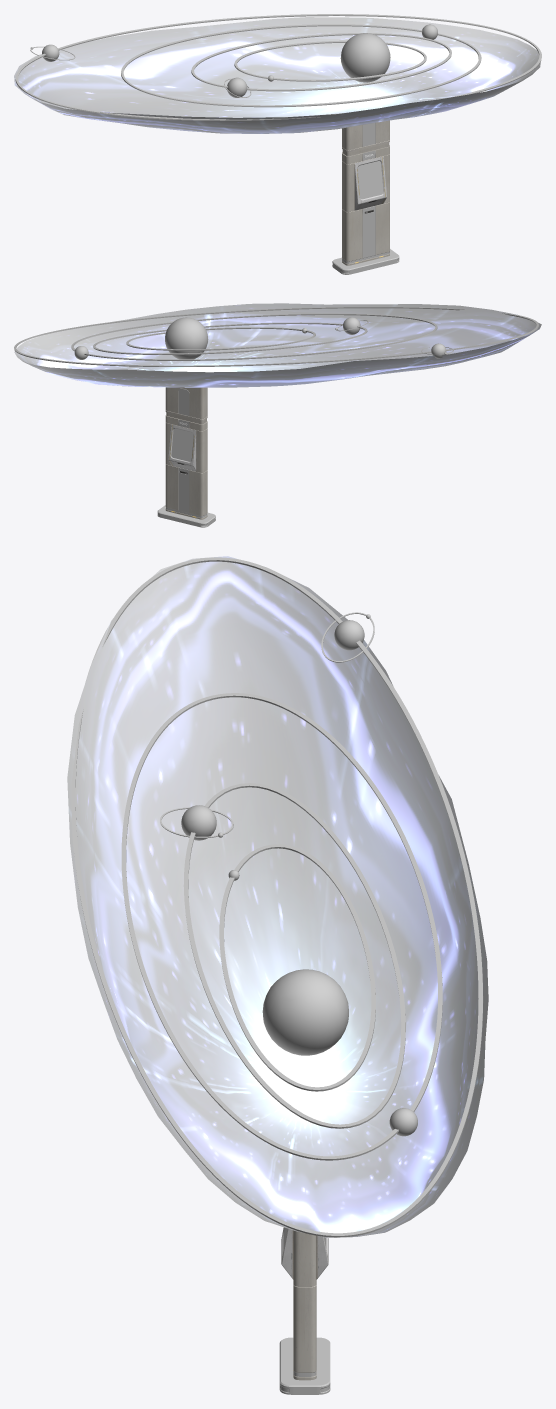
File: KB3D_MTM_PropHologramMap_A.fbx
3 views of the same model, one above another, from view 1: azimuth 30°, elevation 25°; view 2: azimuth 150°, elevation 25°; view 3: azimuth 270°, elevation 25° (orthographic). The views are drawn at different scales.
Visible parts, largest first — view 1: KB3D_MTM_PropHologramMap_A_Main; view 2: KB3D_MTM_PropHologramMap_A_Main; view 3: KB3D_MTM_PropHologramMap_A_Main.
Boxes of the visible parts, x1,y1,x2,y2 form: KB3D_MTM_PropHologramMap_A_Main: [14, 14, 541, 274]; KB3D_MTM_PropHologramMap_A_Main: [14, 303, 541, 527]; KB3D_MTM_PropHologramMap_A_Main: [67, 556, 488, 1394].
Bounding box in the file's own units: 753 × 371 × 284.
